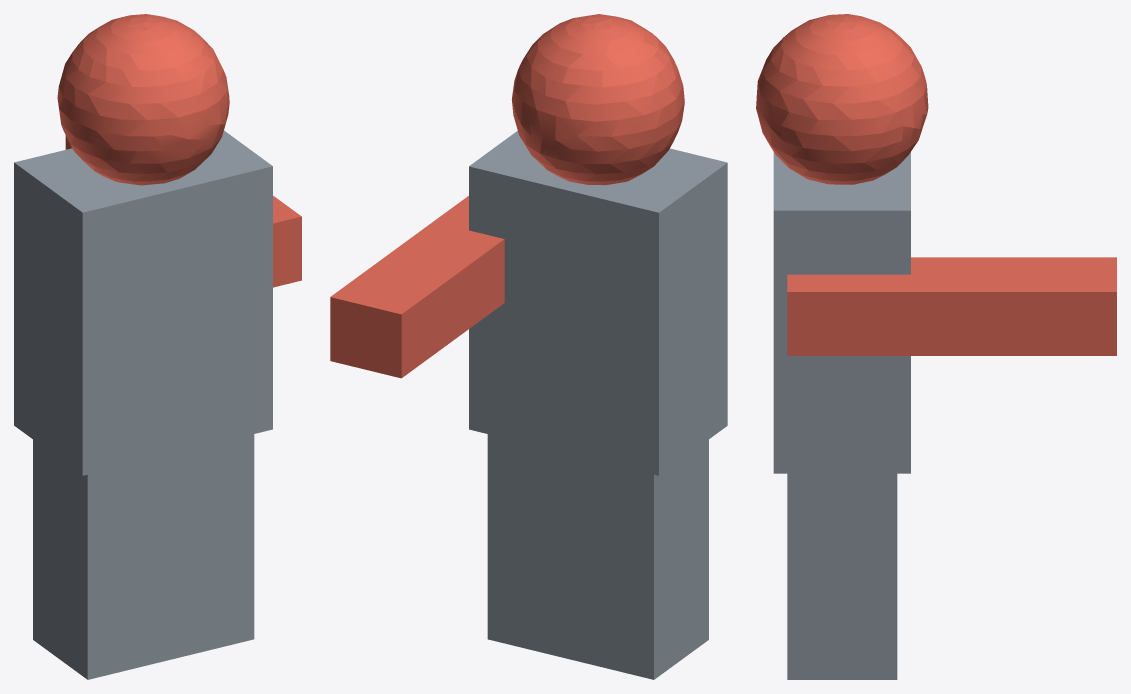
The model's file is SU_Hero_Morozova_LOD1.glb.
The picture shows the model from 3 angles, left to right: view 1: azimuth 30°, elevation 25°; view 2: azimuth 150°, elevation 25°; view 3: azimuth 270°, elevation 25°; orthographic projection.
Parts seen in each view (by area): view 1: Head; view 2: Head; view 3: Head.
Boxes of the visible parts, x1,y1,x2,y2 form: Head: (14, 14, 301, 679); Head: (330, 14, 727, 679); Head: (756, 14, 1116, 679).
Bounding box in the file's own units: 66.5 × 174 × 91.99.
